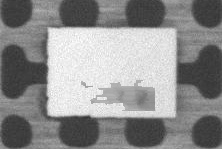DIE_INK: (82, 78, 155, 111)
